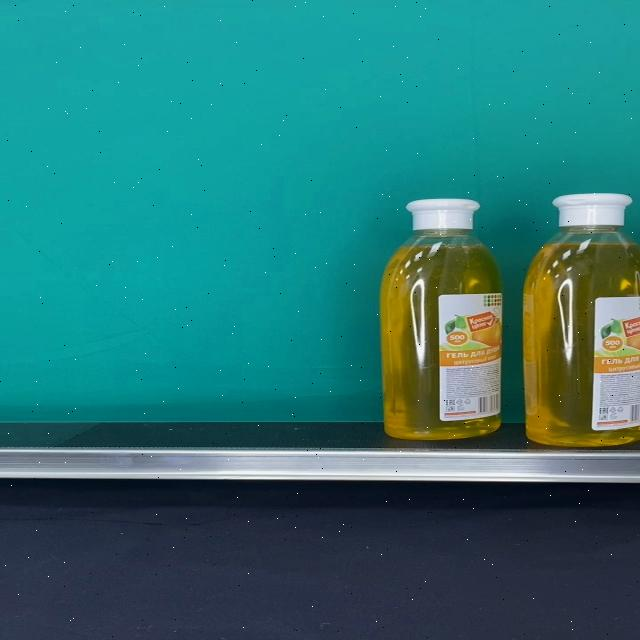Bottle: (381, 199, 504, 440), (524, 194, 640, 446)
Cap: (556, 194, 634, 227), (409, 200, 483, 230)
